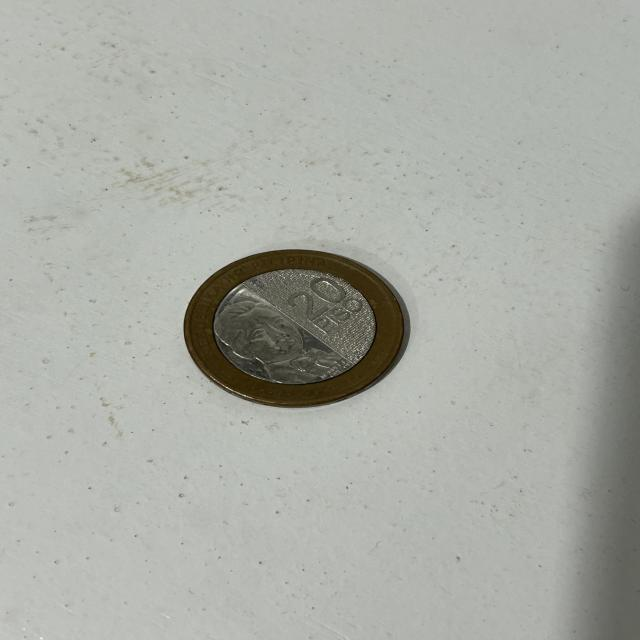20_New_Front: (280, 277, 370, 335)
